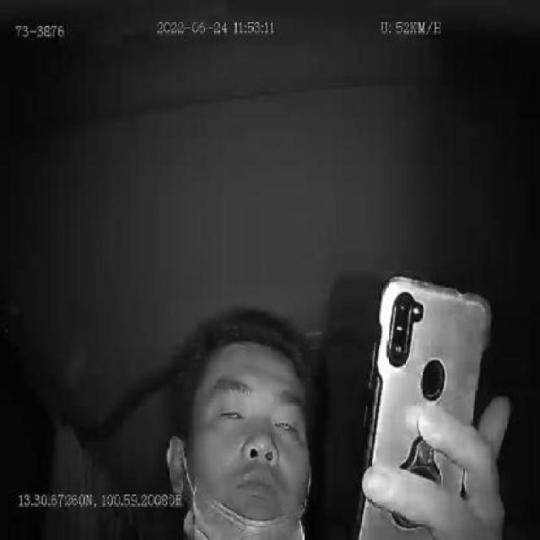phone: (358, 272, 490, 540)
